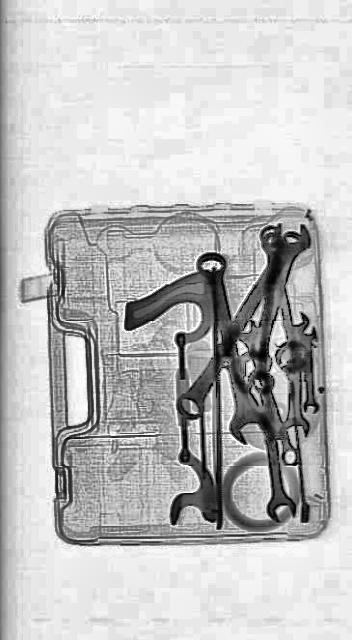Wrench: (172, 212, 306, 433), (188, 240, 272, 452), (232, 308, 304, 472), (238, 338, 298, 528), (280, 310, 310, 438), (299, 320, 319, 414)
